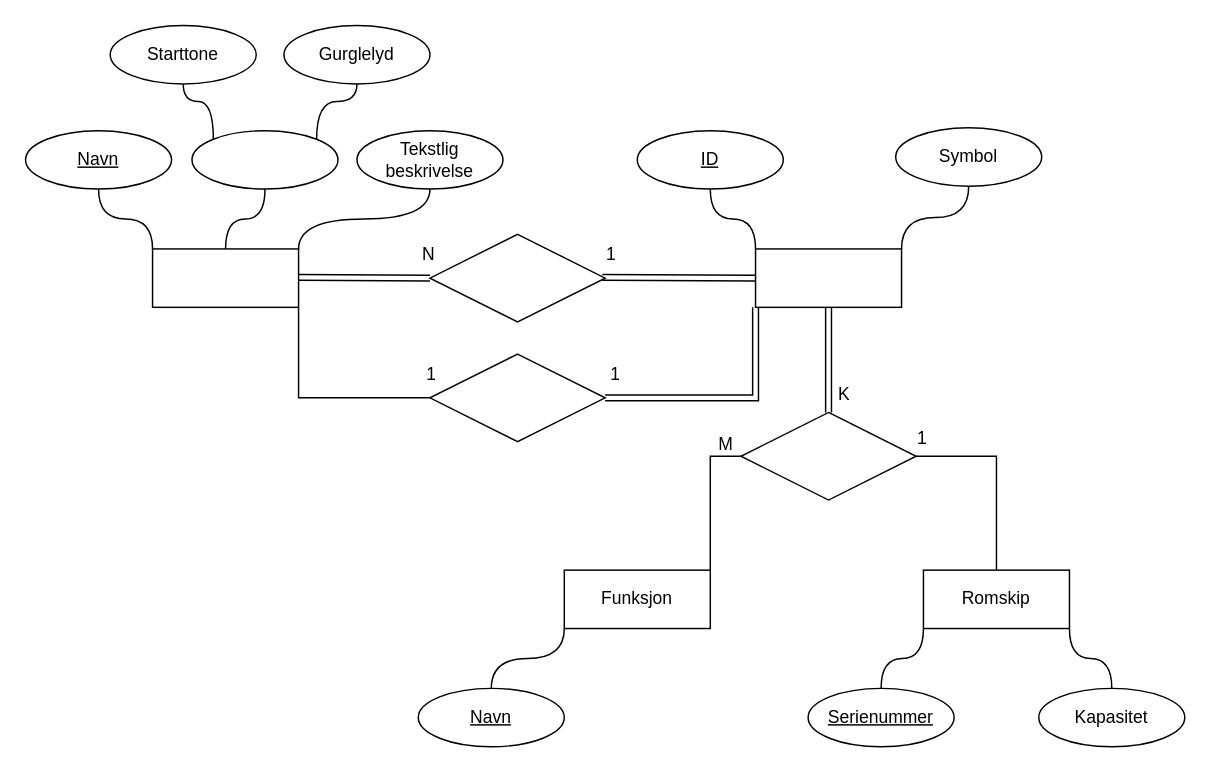
This 1210x772 diagram has some shape labels left out. The shapes that lost their labels are listed below. From the top down, each one's box as (x1, y1, x2, y2) in pixels, then its label:
(191, 129, 338, 189): Lyd
(151, 247, 299, 307): Romvesen
(429, 233, 605, 322): Organisert
(754, 247, 902, 307): Gruppe
(429, 353, 605, 442): Leder
(739, 411, 916, 500): Utføre
